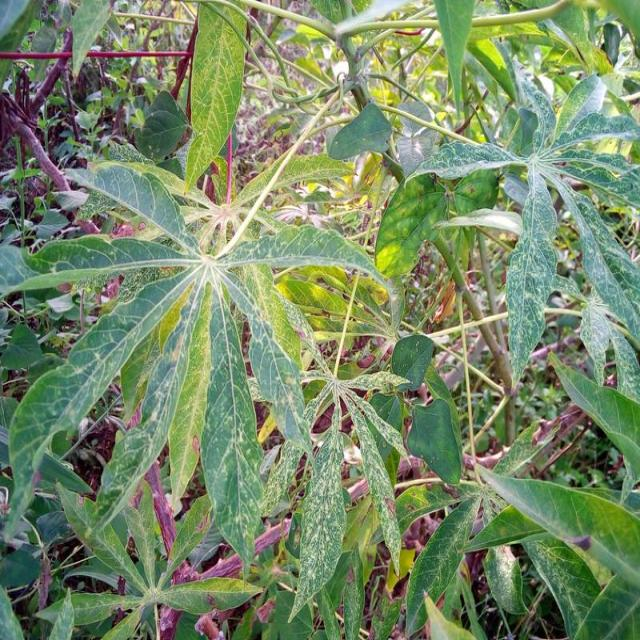cassava leaf: (3, 138, 395, 570), (184, 0, 250, 195)
